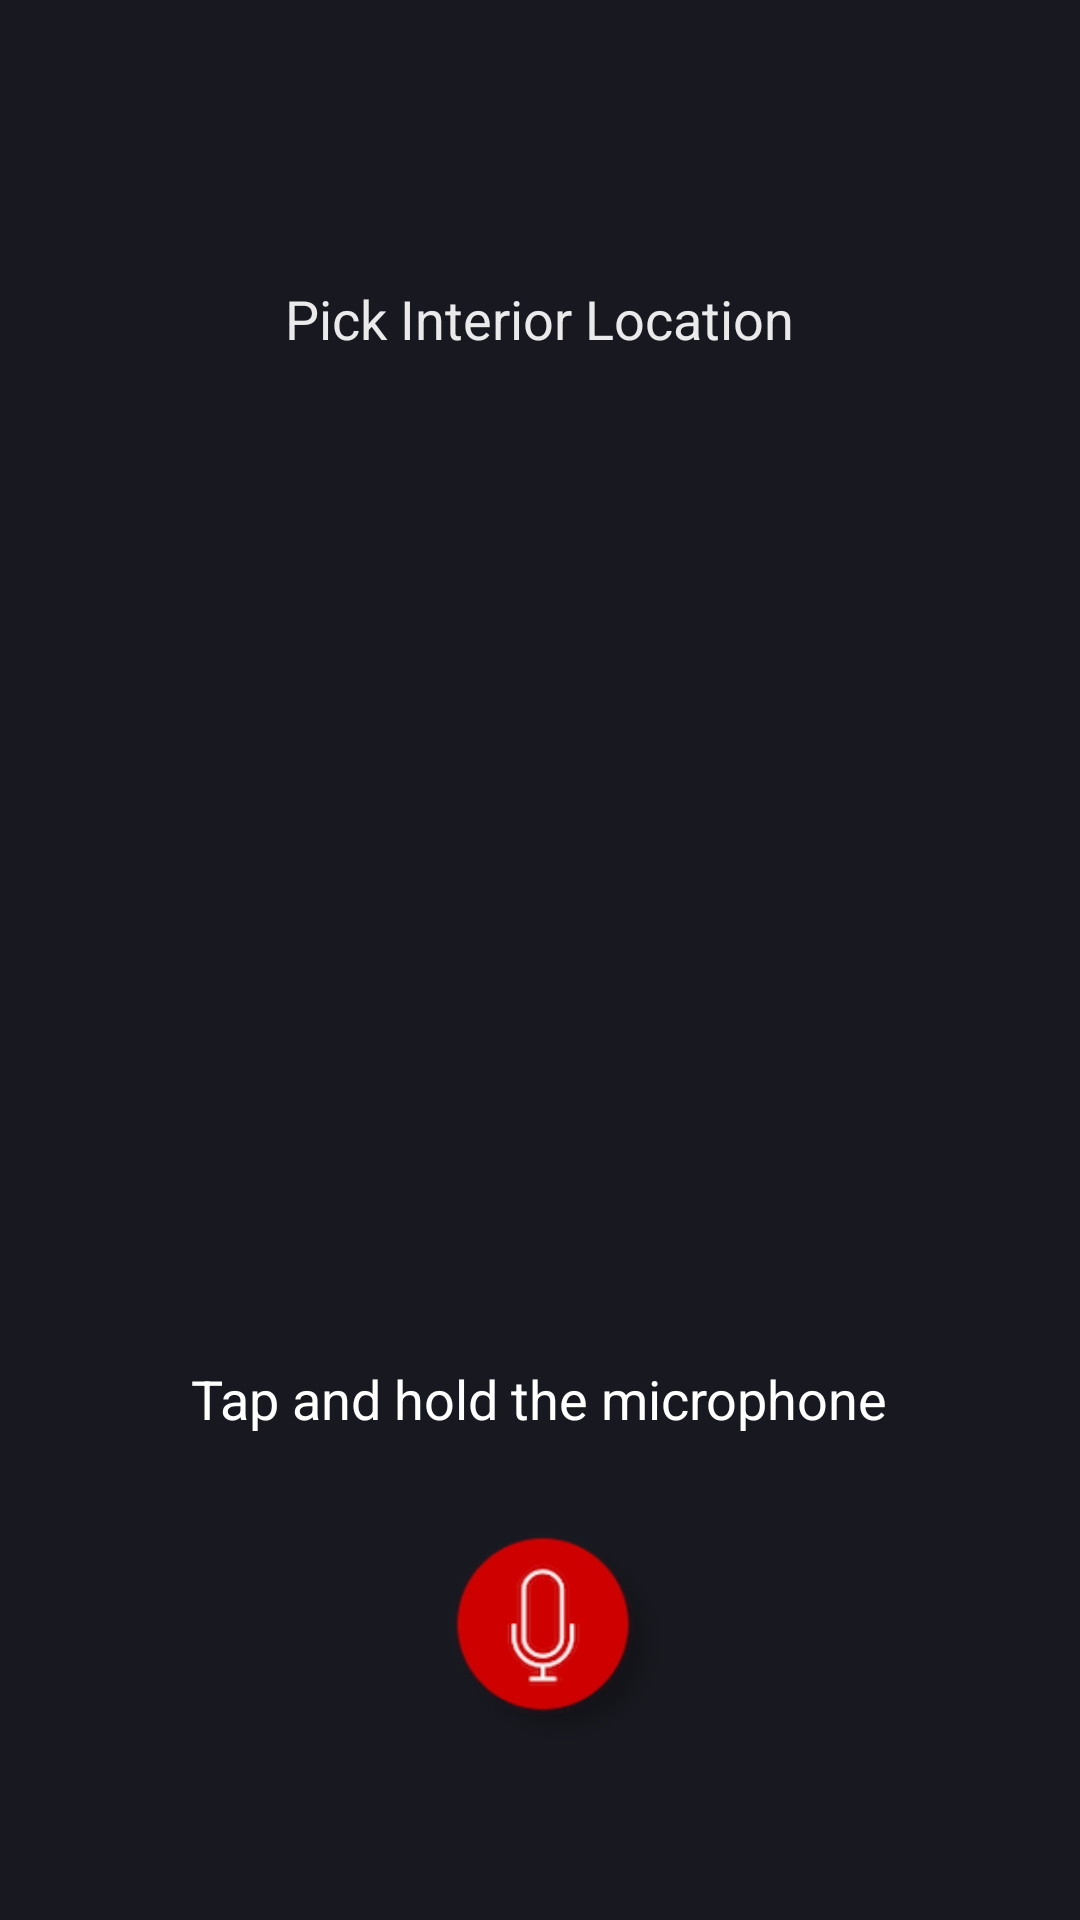

Named icons in this screenshot (1080x1920) and their centers, point (x, y):
mic rollover: point (543, 1624)
